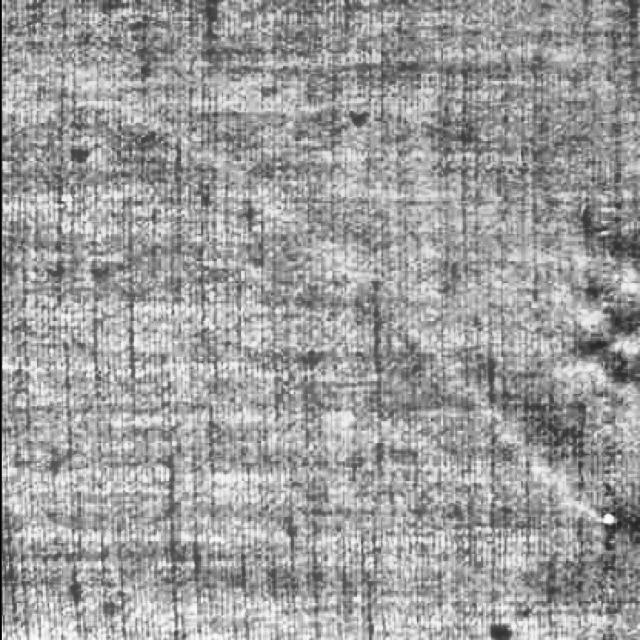hole: (596, 506, 623, 534)
